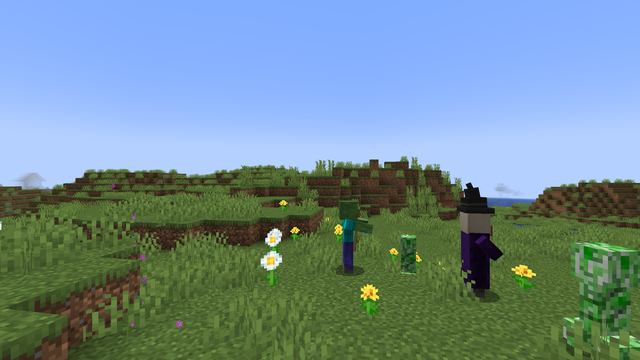creepers: (565, 236, 638, 357), (398, 232, 418, 273)
sorcieres: (456, 207, 495, 299)
zombies: (336, 202, 358, 274)
